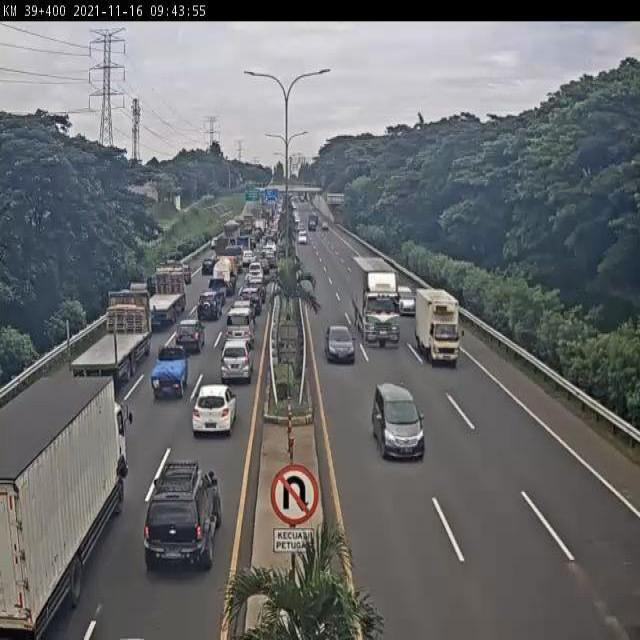car: (143, 461, 223, 575), (373, 382, 424, 462), (147, 344, 190, 403), (193, 384, 237, 435), (222, 337, 255, 383), (228, 306, 257, 346), (326, 326, 355, 366), (177, 319, 205, 352), (199, 291, 222, 321)
small truck: (417, 286, 465, 366)
truck-l-: (60, 289, 148, 395), (350, 254, 404, 350), (137, 267, 184, 328)
truck-m-: (0, 382, 132, 640)
